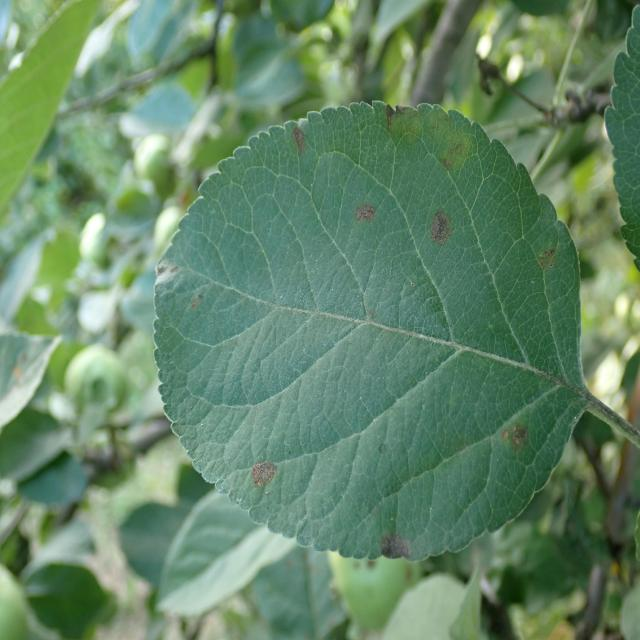scab: (165, 64, 591, 558)
